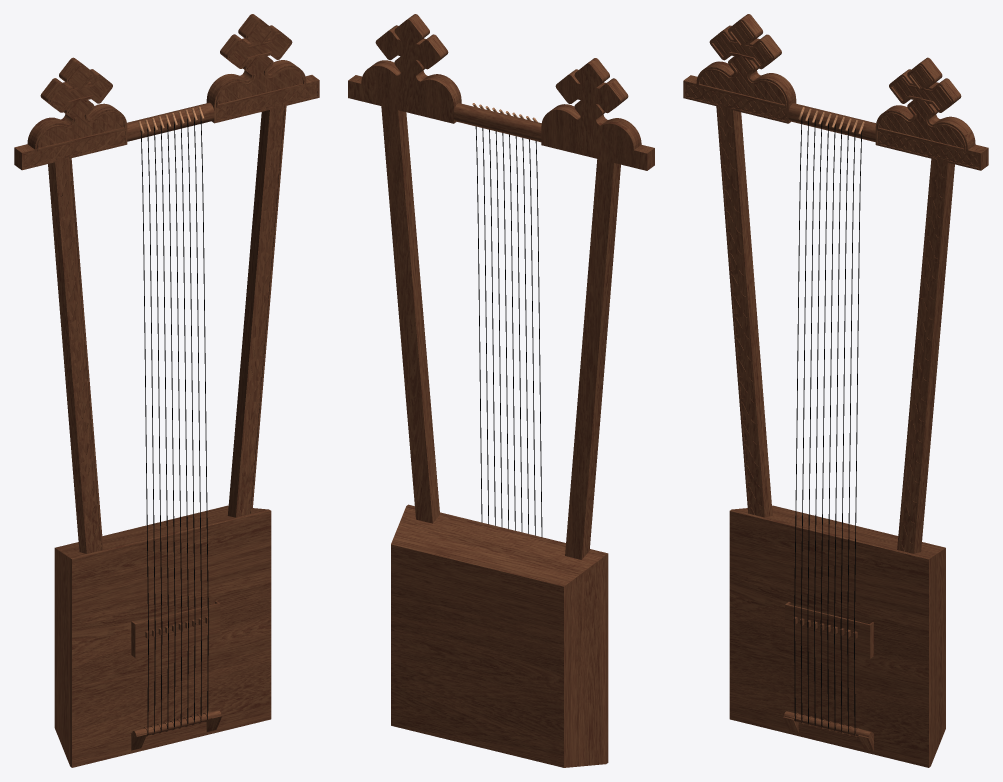
File: Gebena.glb
The picture shows the model from 3 angles, left to right: view 1: azimuth 30°, elevation 25°; view 2: azimuth 150°, elevation 25°; view 3: azimuth 330°, elevation 25°; orthographic projection.
Visible parts, largest first — view 1: Begena; view 2: Begena; view 3: Begena.
Part boxes in pixels (left/top/right/bottom): Begena: left=14, top=14, right=319, bottom=767; Begena: left=348, top=14, right=654, bottom=767; Begena: left=683, top=14, right=988, bottom=767.
Bounding box in the file's own units: 4.29 × 9.65 × 0.9146.
4 materials, 3 textured.
